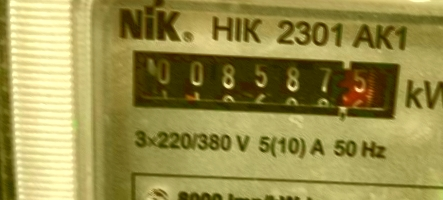0: (154, 55, 172, 85), (187, 58, 206, 86)
5: (251, 60, 270, 89), (351, 66, 370, 95)
7: (315, 63, 334, 93)
8: (283, 62, 302, 93), (219, 60, 237, 89)
screen: (112, 32, 418, 132)
